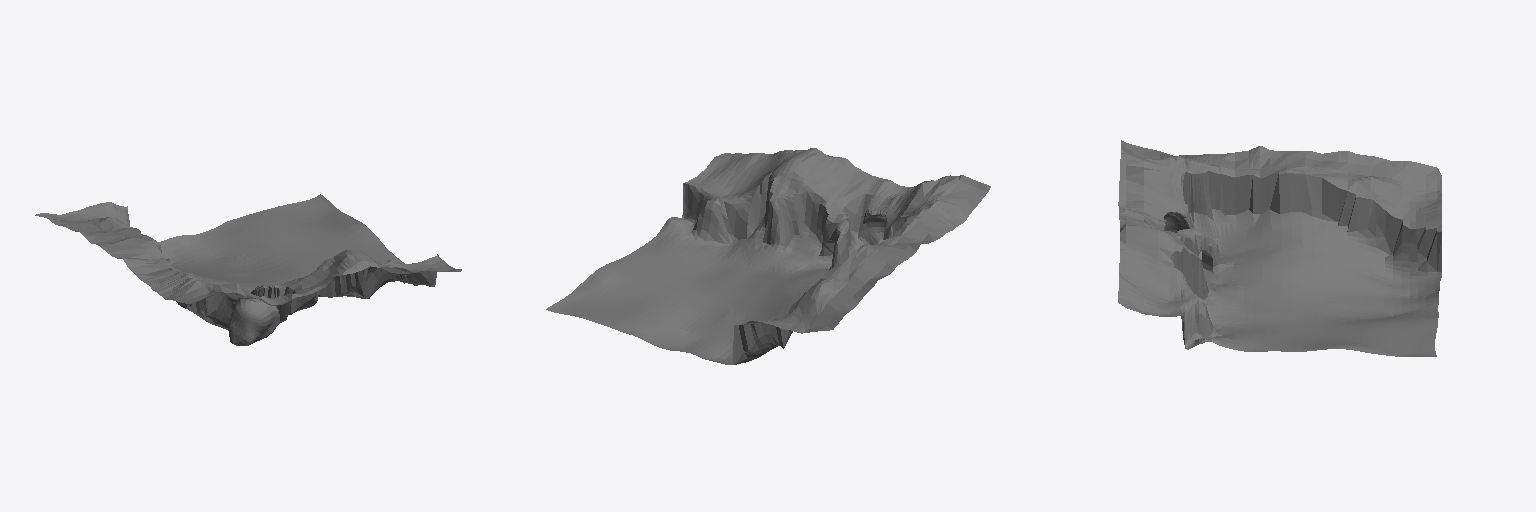
The model's file is Level.obj.
3 views of the same model, side by side, from view 1: azimuth 30°, elevation 25°; view 2: azimuth 150°, elevation 25°; view 3: azimuth 270°, elevation 25° (orthographic).
Parts seen in each view (by area): view 1: polySurface2; view 2: polySurface2; view 3: polySurface2.
Boxes of the visible parts, x1,y1,x2,y2 form: polySurface2: [35, 194, 461, 345]; polySurface2: [546, 148, 990, 364]; polySurface2: [1118, 140, 1441, 356].
Bounding box in the file's own units: 126 × 42.65 × 123.